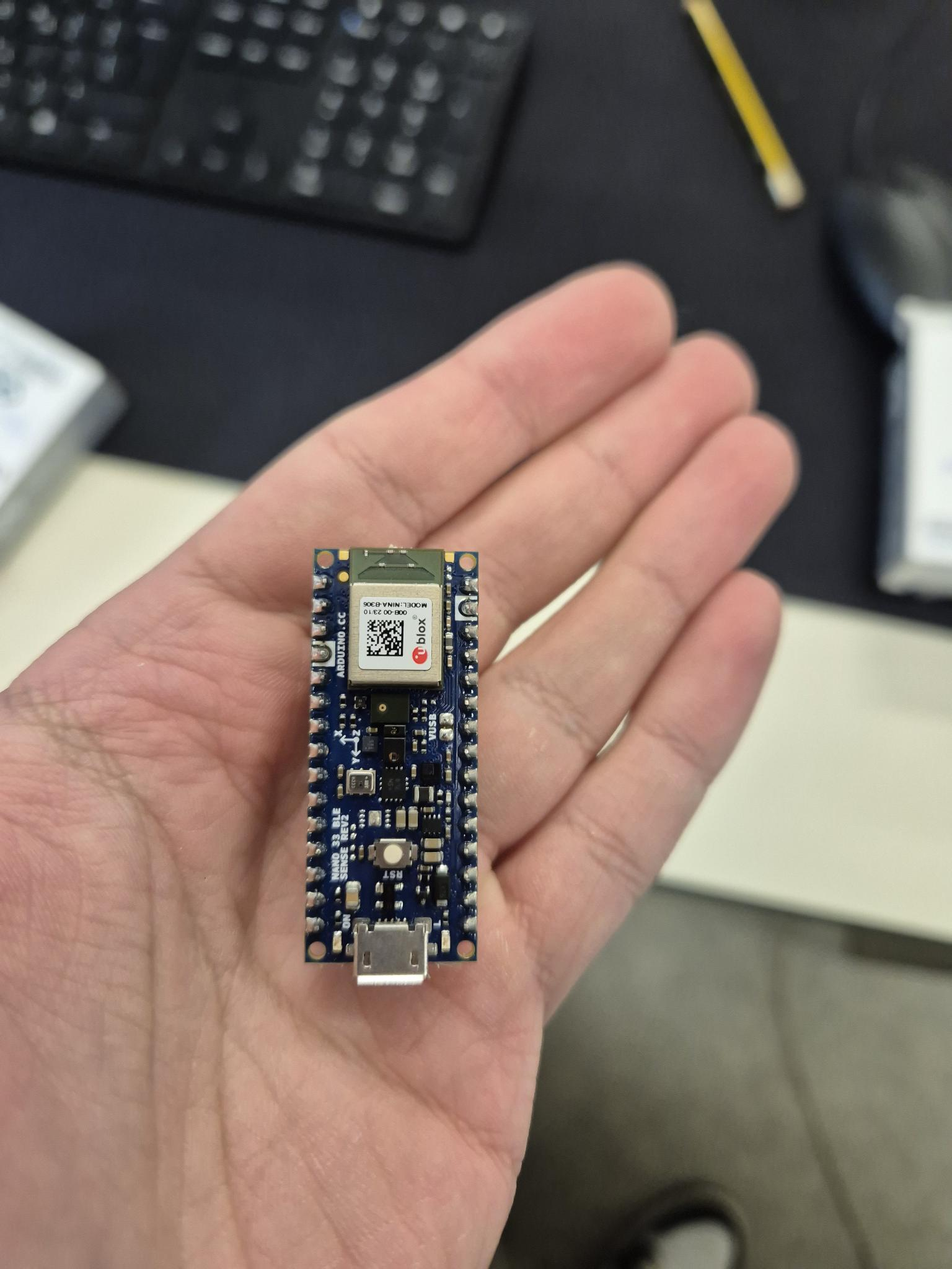arduino-nano-ble-sense: (306, 548, 478, 985)
